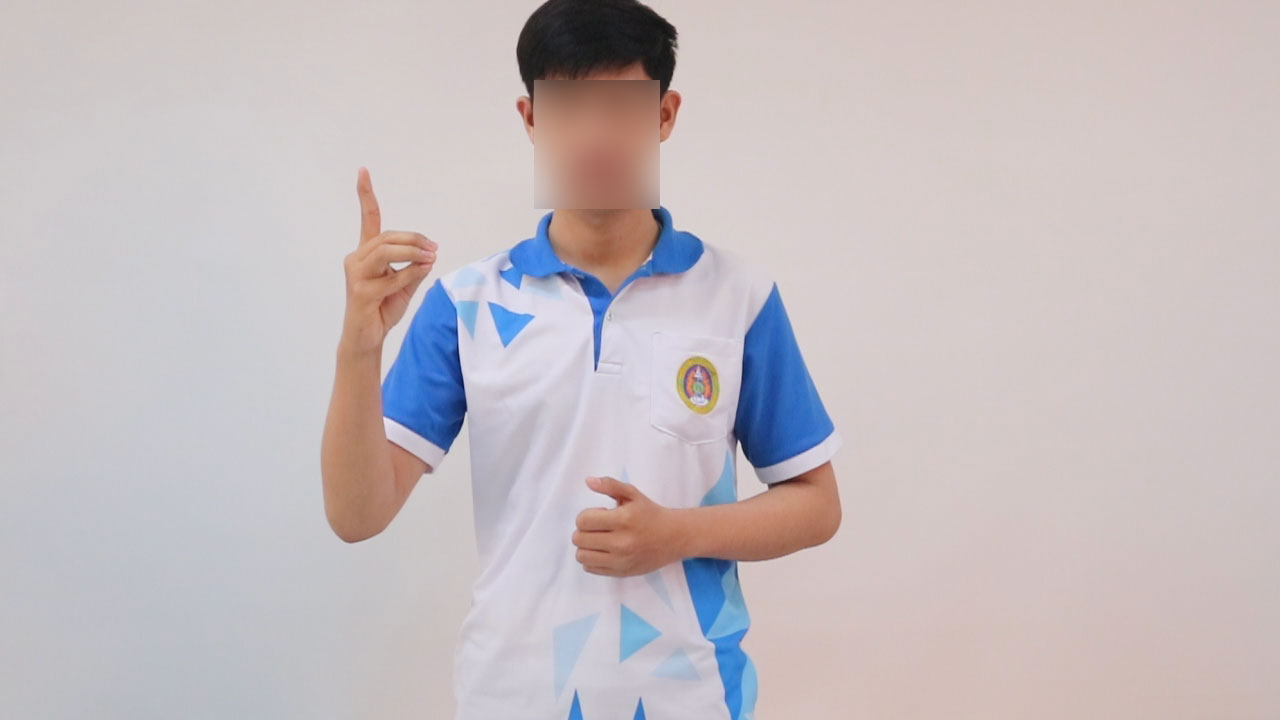dor: (332, 157, 447, 355)
